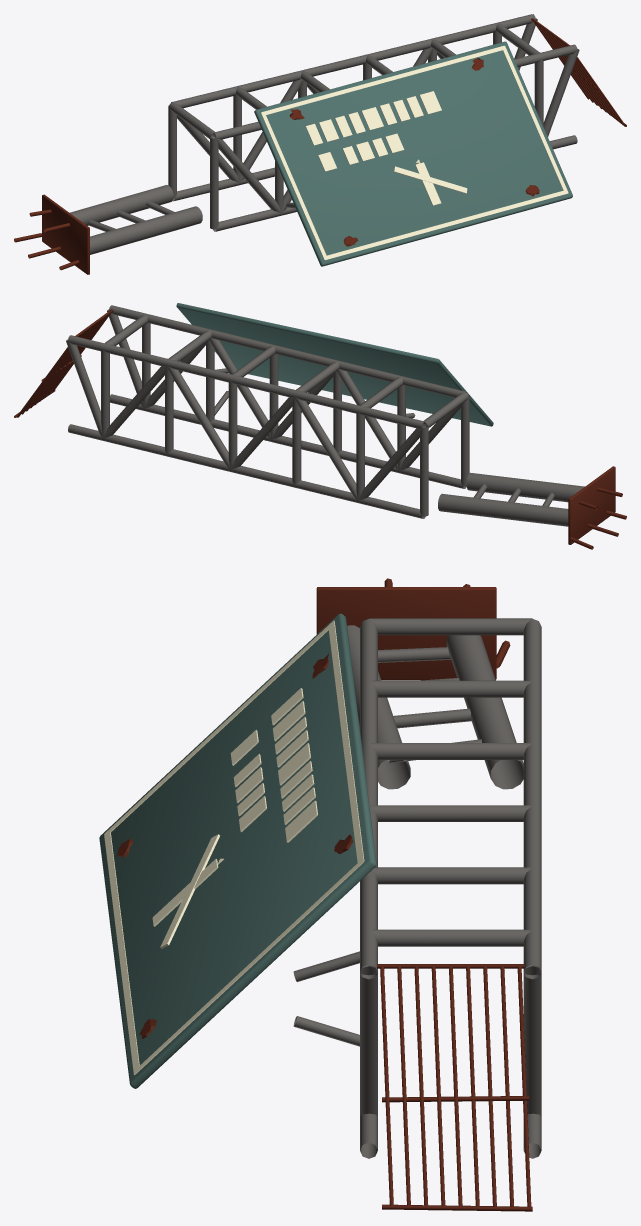
The model's file is gantry.glb.
The picture shows the model from 3 angles, top to bottom: view 1: azimuth 30°, elevation 25°; view 2: azimuth 150°, elevation 25°; view 3: azimuth 270°, elevation 25°; orthographic projection. The views are drawn at different scales.
Visible parts, largest first — view 1: sign, truss, post, base_plate, grating, sign_border_b, sign_border, sign_border_1, sign_border_-1, anchor_bolts, struck, arrow_shaft; view 2: truss, sign, post, base_plate, grating, anchor_bolts; view 3: sign, truss, grating, base_plate, post, sign_border, sign_border_b, sign_brackets, sign_border_1, sign_border_-1, post_brace_1, post_brace_3 (+1 smaller).
Part boxes in pixels (<box>): sign: <box>254,41,572,266</box>; truss: <box>168,14,579,231</box>; post: <box>69,185,202,254</box>; base_plate: <box>42,194,89,274</box>; grating: <box>531,18,626,126</box>; sign_border_b: <box>323,190,568,260</box>; sign_border: <box>261,45,505,115</box>; sign_border_1: <box>502,46,568,193</box>; sign_border_-1: <box>261,113,327,259</box>; anchor_bolts: <box>14,209,79,270</box>; struck: <box>394,166,467,193</box>; arrow_shaft: <box>415,162,441,205</box>; truss: <box>66,305,469,518</box>; sign: <box>176,303,493,426</box>; post: <box>438,472,584,526</box>; base_plate: <box>568,466,615,544</box>; grating: <box>14,309,113,417</box>; anchor_bolts: <box>569,487,626,549</box>; sign: <box>99,613,376,1088</box>; truss: <box>360,618,541,1158</box>; grating: <box>377,964,532,1211</box>; base_plate: <box>316,587,496,680</box>; post: <box>347,625,523,789</box>; sign_border: <box>328,621,364,865</box>; sign_border_b: <box>104,832,139,1074</box>; sign_brackets: <box>293,951,359,1046</box>; sign_border_1: <box>134,861,363,1074</box>; sign_border_-1: <box>104,621,332,834</box>; post_brace_1: <box>393,708,471,728</box>; post_brace_3: <box>378,647,450,662</box>.
Size of the model in its own units: 8.15 by 1.57 by 2.7.
